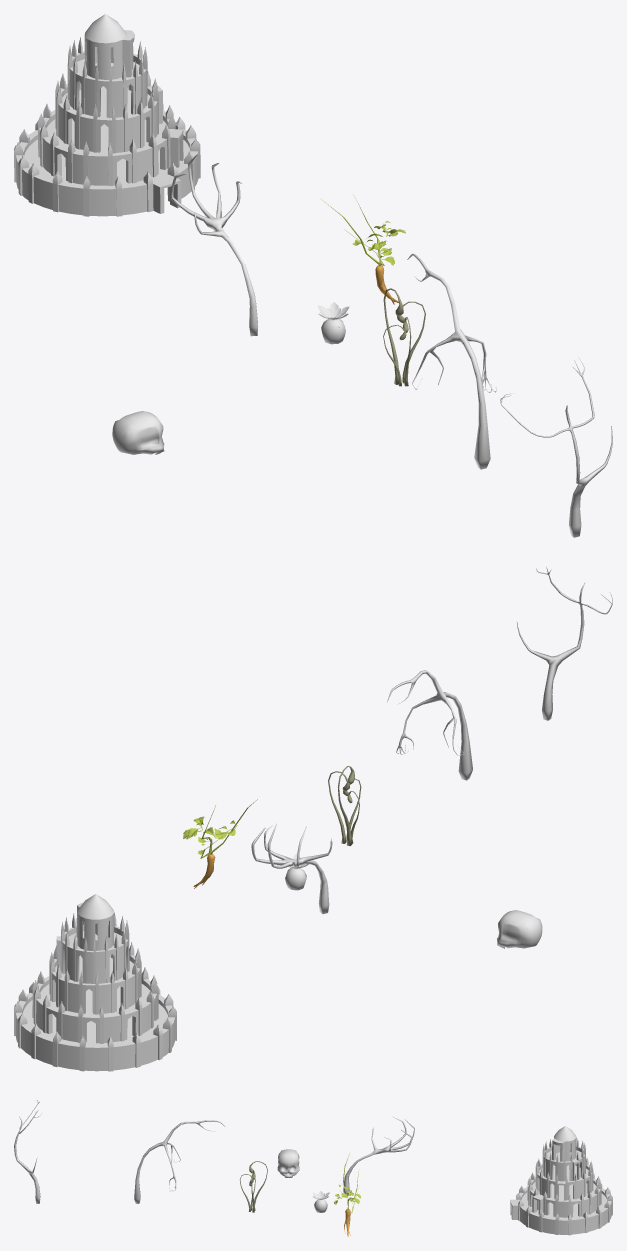
The model's file is Game jam assets (2).fbx.
The picture shows the model from 3 angles, top to bottom: view 1: azimuth 30°, elevation 25°; view 2: azimuth 150°, elevation 25°; view 3: azimuth 270°, elevation 25°; orthographic projection. The views are drawn at different scales.
Visible parts, largest first — view 1: Cube.006, Cube.005, Cylinder.004, Plane.003, Plane.002, Cube.004, Plane.005, Plane.004; view 2: Cube.006, Cube.005, Cylinder.004, Plane.003, Cube.004, Plane.005, Plane.002, Plane.004; view 3: Cube.006, Cube.005, Plane.003, Cylinder.004, Plane.002, Cube.004, Plane.005, Plane.004.
Part boxes in pixels (x1=…): Cube.006: x1=38, y1=37, x2=183, y2=185; Cube.005: x1=14, y1=117, x2=200, y2=216; Cylinder.004: x1=84, y1=14, x2=134, y2=79; Plane.003: x1=407, y1=253, x2=496, y2=469; Plane.002: x1=171, y1=153, x2=257, y2=336; Cube.004: x1=112, y1=411, x2=164, y2=454; Plane.005: x1=500, y1=357, x2=612, y2=537; Plane.004: x1=383, y1=288, x2=425, y2=386; Cube.006: x1=32, y1=912, x2=158, y2=1043; Cube.005: x1=14, y1=982, x2=176, y2=1071; Cylinder.004: x1=76, y1=894, x2=113, y2=950; Plane.003: x1=387, y1=670, x2=472, y2=780; Cube.004: x1=497, y1=910, x2=542, y2=948; Plane.005: x1=517, y1=566, x2=612, y2=720; Plane.002: x1=251, y1=823, x2=332, y2=913; Plane.004: x1=328, y1=766, x2=361, y2=845; Cube.006: x1=527, y1=1138, x2=601, y2=1217; Cube.005: x1=510, y1=1182, x2=612, y2=1235; Plane.003: x1=134, y1=1120, x2=225, y2=1203; Cylinder.004: x1=552, y1=1126, x2=576, y2=1161; Plane.002: x1=343, y1=1116, x2=414, y2=1195; Cube.004: x1=277, y1=1149, x2=299, y2=1177; Plane.005: x1=14, y1=1100, x2=41, y2=1203; Plane.004: x1=240, y1=1161, x2=267, y2=1212.
Size of the model in its own units: 1173 by 705 by 3313.
